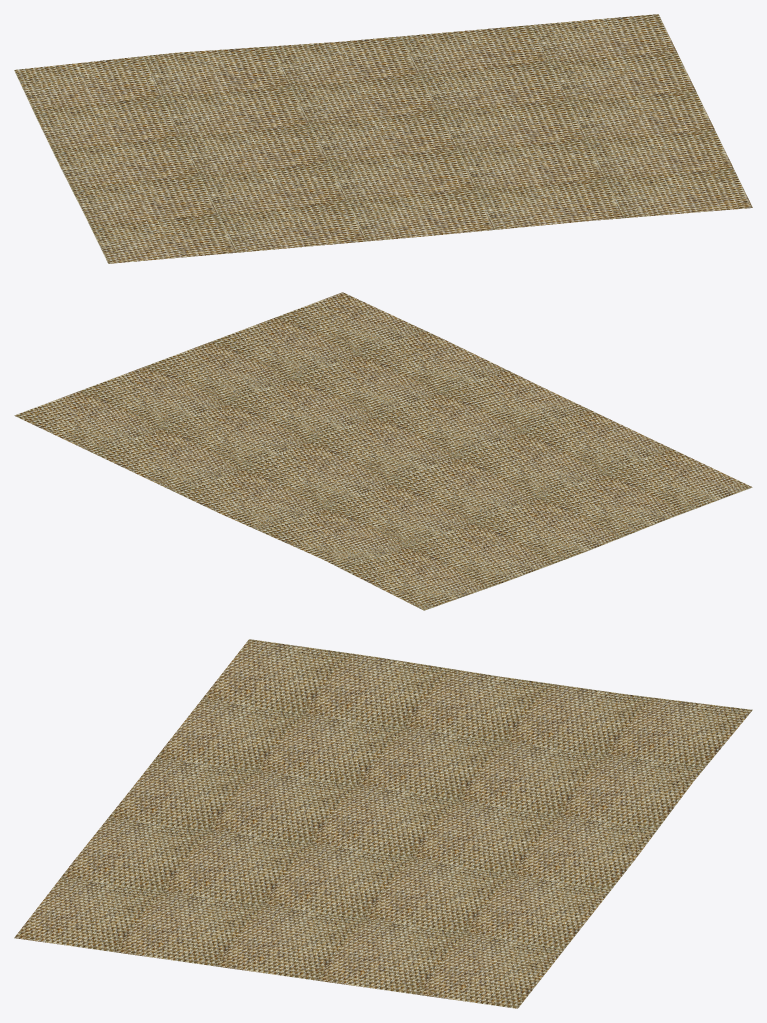
Rendered from B49_3Alfombra.FBX.
3 views of the same model, one above another, from view 1: azimuth 30°, elevation 25°; view 2: azimuth 150°, elevation 25°; view 3: azimuth 270°, elevation 25° (orthographic). The views are drawn at different scales.
Visible parts, largest first — view 1: 2.Alfombra; view 2: 2.Alfombra; view 3: 2.Alfombra.
Part boxes in pixels (x1,y1,x2,y2): 2.Alfombra: (14,14,752,263); 2.Alfombra: (14,292,752,610); 2.Alfombra: (14,639,752,1008).
Size of the model in its own units: 173 by 1.37 by 146.
Materials: 1 (1 with a texture image).
